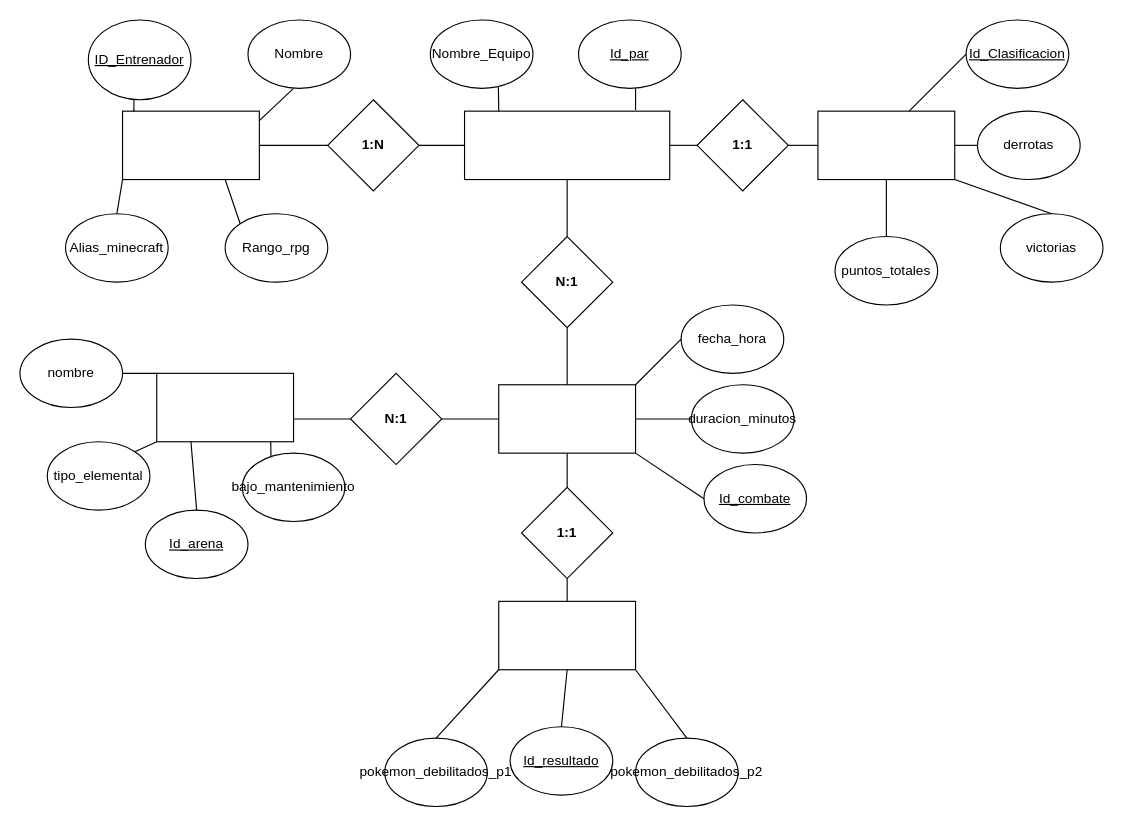
This 1123x827 diagram has some shape labels left out. The shapes that lost their labels are listed below. From the top down, each one's centre as x and y in pixels, then its label:
(190,145): ENTRENADOR
(566,145): PAREJA_ENTRENADORES
(886,145): CLASIFICACIÓN
(225,407): ARENA
(567,418): COMBATE
(567,635): RESULTADO
